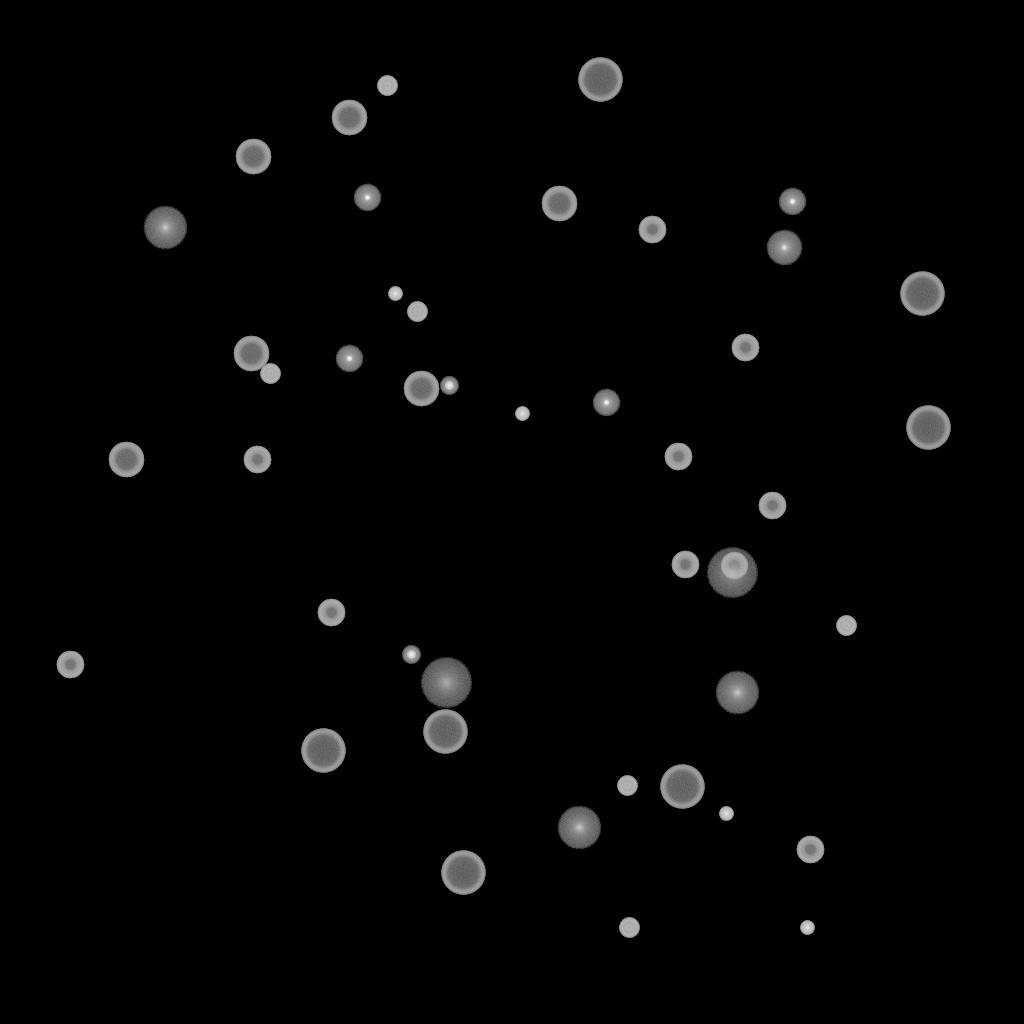depth:-10: (592, 389, 620, 417), (335, 345, 363, 373), (778, 188, 806, 216), (353, 184, 381, 212)
depth:-20: (402, 646, 420, 664), (440, 377, 458, 395)
depth:-30: (515, 407, 529, 421), (388, 287, 402, 301), (800, 921, 814, 935), (719, 807, 733, 821)
depth:-40: (836, 616, 856, 636), (260, 364, 280, 384), (377, 76, 397, 96), (617, 776, 637, 796), (619, 918, 639, 938), (407, 302, 427, 322)
depth:-50: (664, 443, 692, 471), (758, 492, 786, 520), (796, 836, 824, 864), (731, 334, 759, 362), (720, 552, 748, 580), (243, 446, 271, 474), (671, 551, 699, 579), (638, 216, 666, 244), (317, 599, 345, 627), (56, 651, 84, 679)
depth:-60: (403, 371, 439, 407), (235, 139, 271, 175), (541, 186, 577, 222), (331, 100, 367, 136), (108, 442, 144, 478), (233, 336, 269, 372)
depth:-70: (660, 765, 704, 809), (301, 729, 345, 773), (900, 272, 944, 316), (423, 710, 467, 754), (441, 851, 485, 895), (906, 406, 950, 450), (578, 58, 622, 102)
depth:0: (766, 230, 802, 266)
depth:10: (715, 671, 759, 715), (143, 206, 187, 250), (557, 806, 601, 850)
depth:20: (420, 658, 472, 708), (706, 548, 758, 598)
